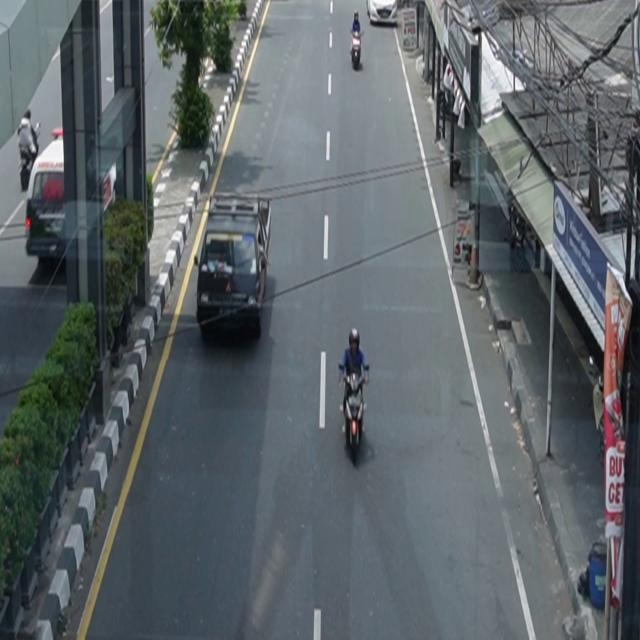car: (25, 128, 118, 268), (195, 193, 273, 340), (367, 1, 398, 26)
